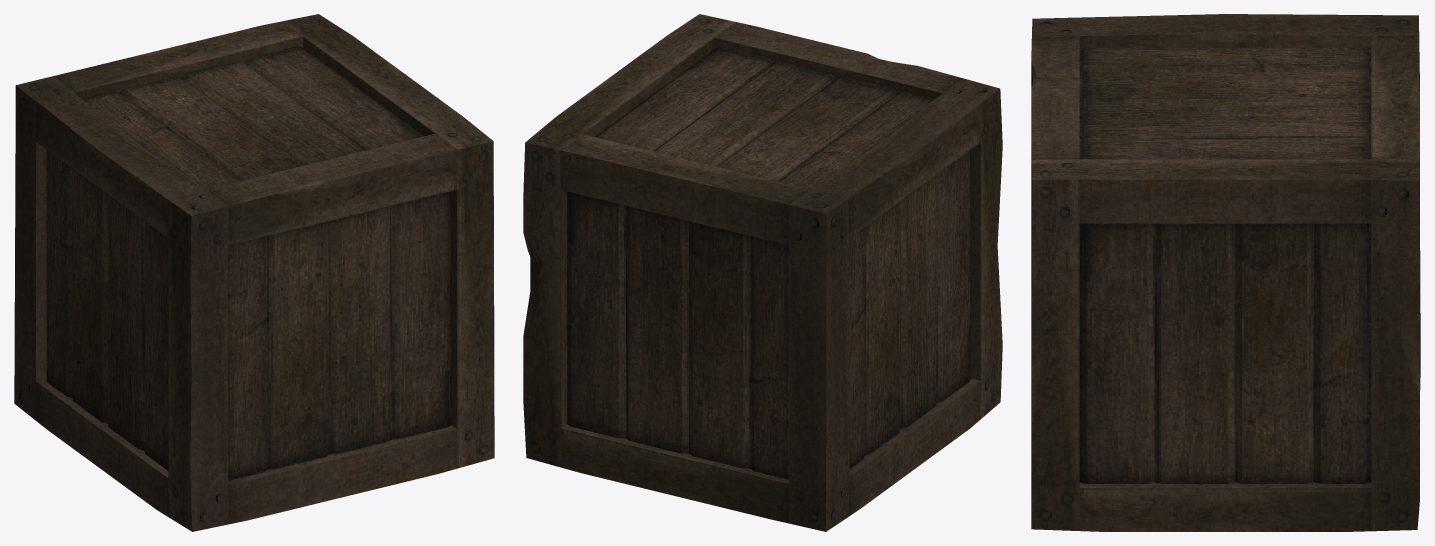
The model's file is wooden_crate_5.glb.
3 views of the same model, side by side, from view 1: azimuth 30°, elevation 25°; view 2: azimuth 150°, elevation 25°; view 3: azimuth 270°, elevation 25° (orthographic). The views are drawn at different scales.
Parts seen in each view (by area): view 1: wooden_crate_5; view 2: wooden_crate_5; view 3: wooden_crate_5.
Boxes of the visible parts, x1,y1,x2,y2 form: wooden_crate_5: (14,14,494,531); wooden_crate_5: (523,14,1002,531); wooden_crate_5: (1031,14,1420,531).
Bounding box in the file's own units: 1.09 × 1.08 × 1.08.
Materials: 1 (1 with a texture image).
